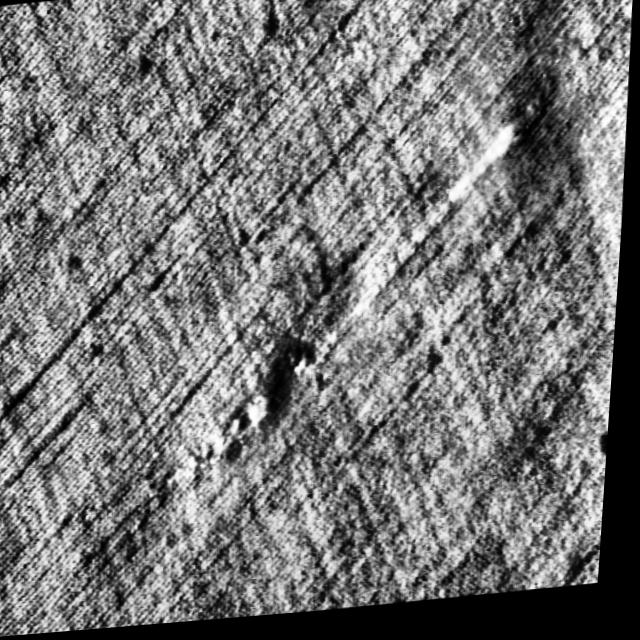Stitch: (143, 83, 562, 519)
